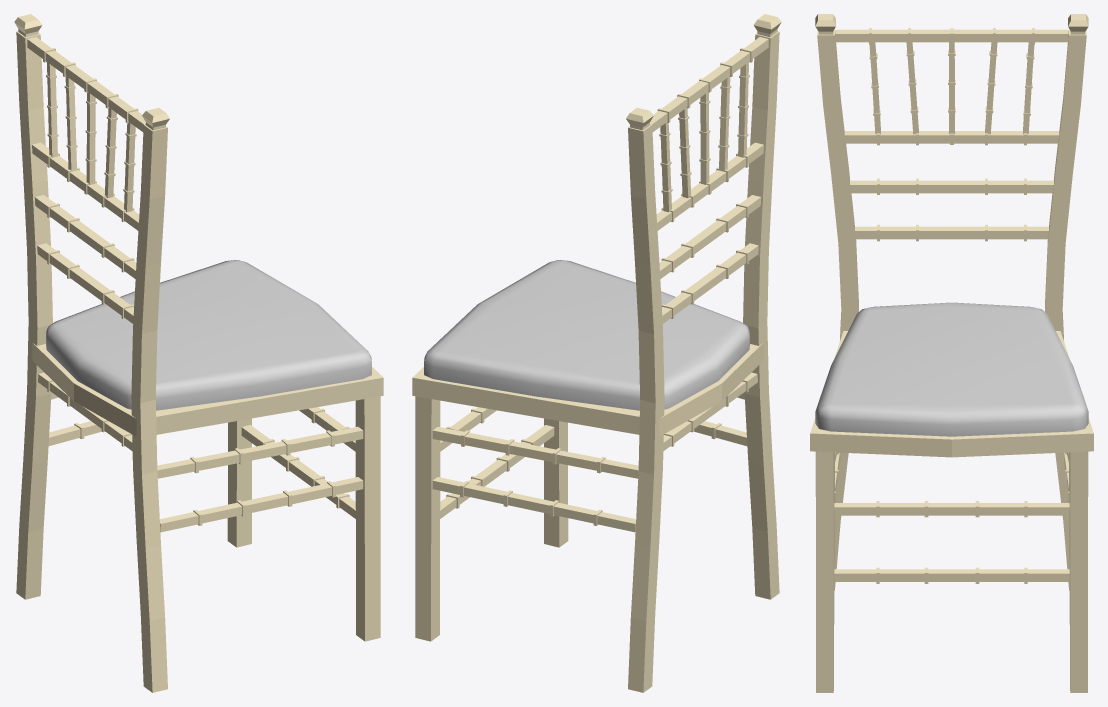
File: chair.glb
3 renders of one model, left to right at view 1: azimuth 30°, elevation 25°; view 2: azimuth 150°, elevation 25°; view 3: azimuth 270°, elevation 25°, orthographic.
Visible parts, largest first — view 1: chiavari_chair_very_low; view 2: chiavari_chair_very_low; view 3: chiavari_chair_very_low.
Part boxes in pixels (left/top/right/bottom): chiavari_chair_very_low: left=14, top=14, right=383, bottom=692; chiavari_chair_very_low: left=412, top=14, right=781, bottom=692; chiavari_chair_very_low: left=810, top=14, right=1093, bottom=692.
Bounding box in the file's own units: 0.4201 × 0.9224 × 0.4164.
